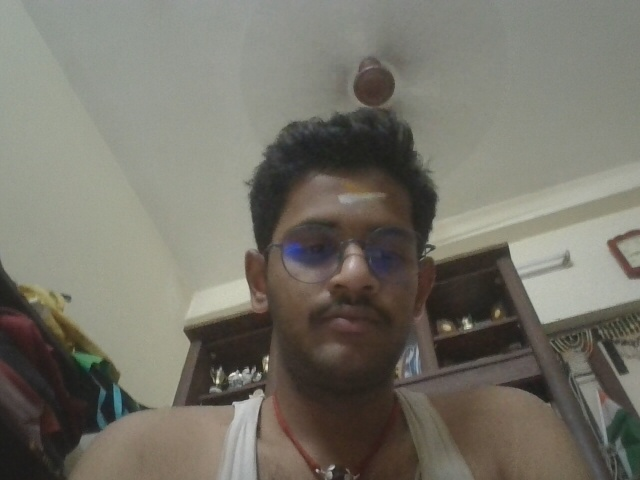real: (251, 166, 452, 367)
